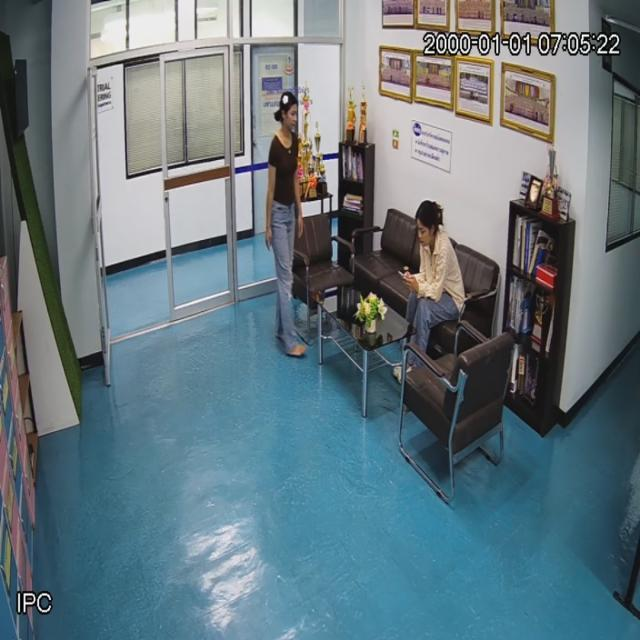normal: (266, 90, 308, 357), (398, 201, 467, 331)
